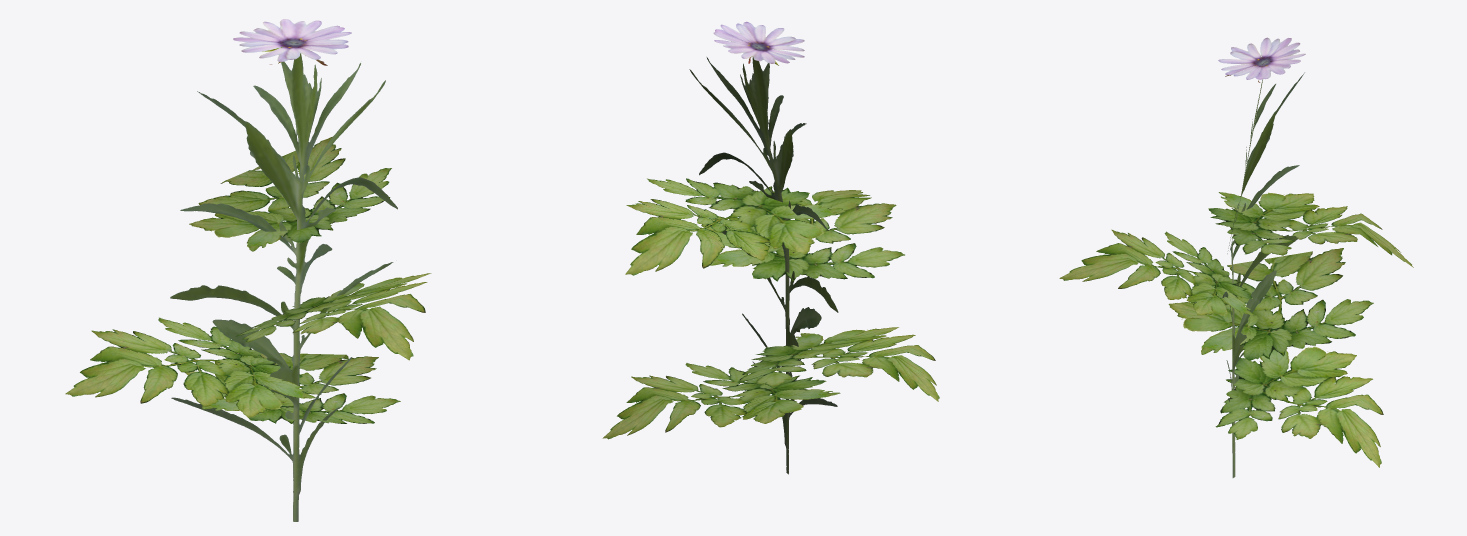
Rendered from plant01c.fbx.
3 renders of one model, left to right at view 1: azimuth 30°, elevation 25°; view 2: azimuth 150°, elevation 25°; view 3: azimuth 270°, elevation 25°, orthographic. The views are drawn at different scales.
Parts seen in each view (by area): view 1: plant01c; view 2: plant01c; view 3: plant01c.
Boxes of the visible parts, x1,y1,x2,y2 form: plant01c: (65,19,431,521); plant01c: (602,21,939,474); plant01c: (1059,37,1413,477).
Size of the model in its own units: 0.3736 by 0.4386 by 0.3912.
